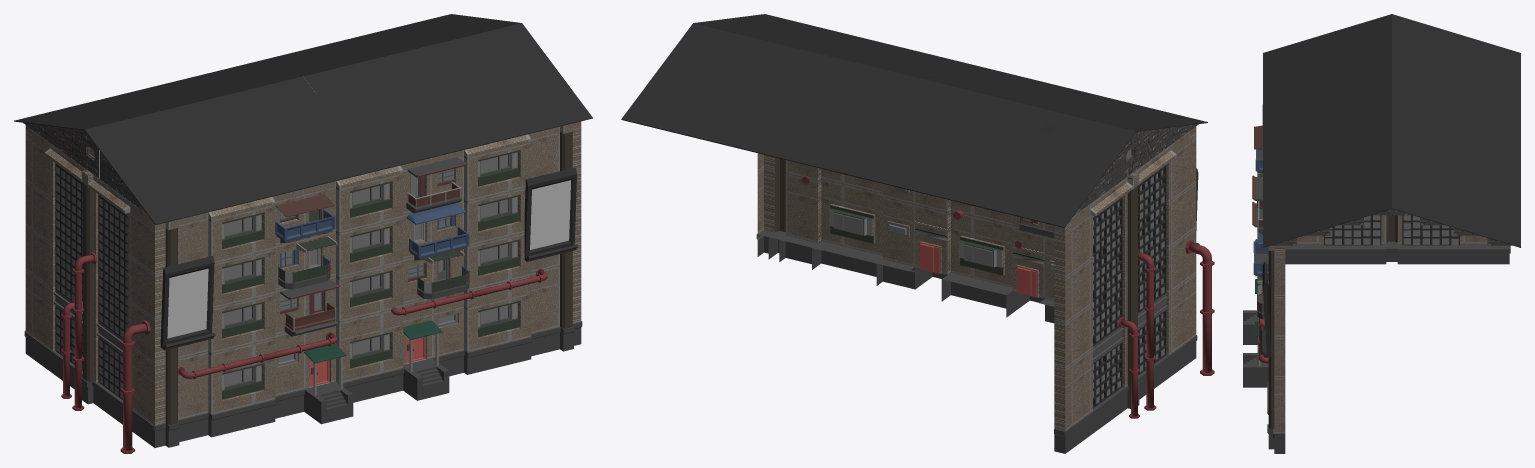
The model's file is BLOCK1.2.fbx.
3 views of the same model, side by side, from view 1: azimuth 30°, elevation 25°; view 2: azimuth 150°, elevation 25°; view 3: azimuth 270°, elevation 25° (orthographic). The views are drawn at different scales.
Parts seen in each view (by area): view 1: Plane.108, Plane.106, Plane.081, Plane.103, Plane.089, Plane.080, Plane.116, Plane.141, Plane.113, Plane.110, GeoPipes.004, GeoPipes.006 (+14 smaller); view 2: Plane.108, Plane.106, Plane.080, Plane.103, Plane.081, Plane.089, Plane.110, GeoPipes.004, GeoPipes.006, GeoPipes.002, Plane.088; view 3: Plane.108, Plane.103, Plane.106, Plane.080, Plane.141, Plane.144.
Boxes of the visible parts, x1,y1,x2,y2 form: Plane.108: [14, 14, 592, 224]; Plane.106: [25, 121, 581, 425]; Plane.081: [208, 142, 531, 414]; Plane.103: [24, 321, 582, 447]; Plane.089: [222, 150, 518, 399]; Plane.080: [53, 163, 127, 399]; Plane.116: [160, 256, 215, 350]; Plane.141: [524, 167, 578, 261]; Plane.113: [277, 168, 457, 366]; Plane.110: [38, 124, 142, 209]; GeoPipes.004: [120, 320, 150, 453]; GeoPipes.006: [72, 252, 97, 410]; Plane.108: [621, 14, 1207, 227]; Plane.106: [757, 126, 1196, 431]; Plane.080: [1093, 165, 1167, 408]; Plane.103: [756, 230, 1197, 453]; Plane.081: [818, 168, 1012, 287]; Plane.089: [829, 171, 1003, 275]; Plane.110: [1077, 126, 1183, 212]; GeoPipes.004: [1185, 240, 1214, 375]; GeoPipes.006: [1138, 249, 1156, 410]; GeoPipes.002: [1118, 317, 1139, 418]; Plane.088: [919, 242, 940, 273]; Plane.108: [1263, 14, 1520, 247]; Plane.103: [1243, 241, 1510, 453]; Plane.106: [1268, 215, 1487, 433]; Plane.080: [1324, 215, 1459, 245]; Plane.141: [1260, 261, 1271, 357]; Plane.144: [1253, 241, 1268, 280].
Size of the model in its own units: 4279 by 2482 by 2477.
